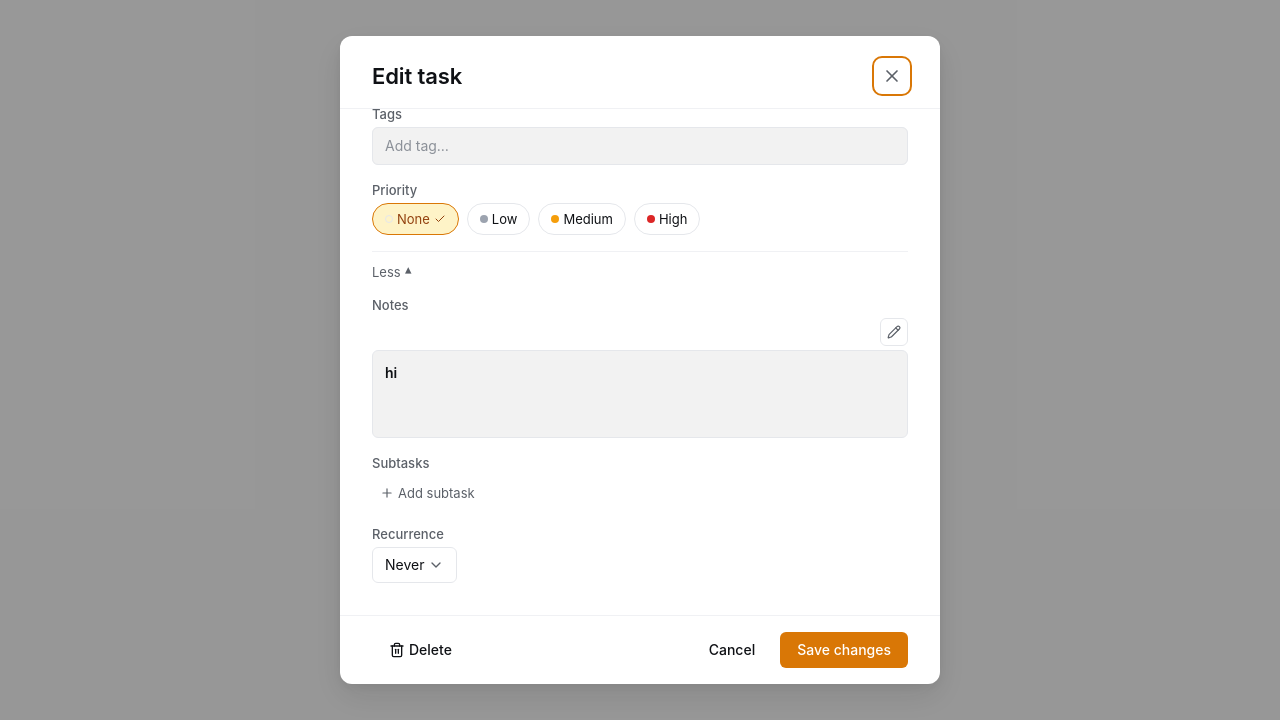
Test case: TaskModal — Notes field with markdown (task-13) › typing in notes textarea and blurring re-renders preview with new content
(page scrolled)
Expected: the dialog is shown, [340,36,940,684]
Enter edit mode
Click the element named "notes preview".
click(640, 394)  # box [372,350,908,438]
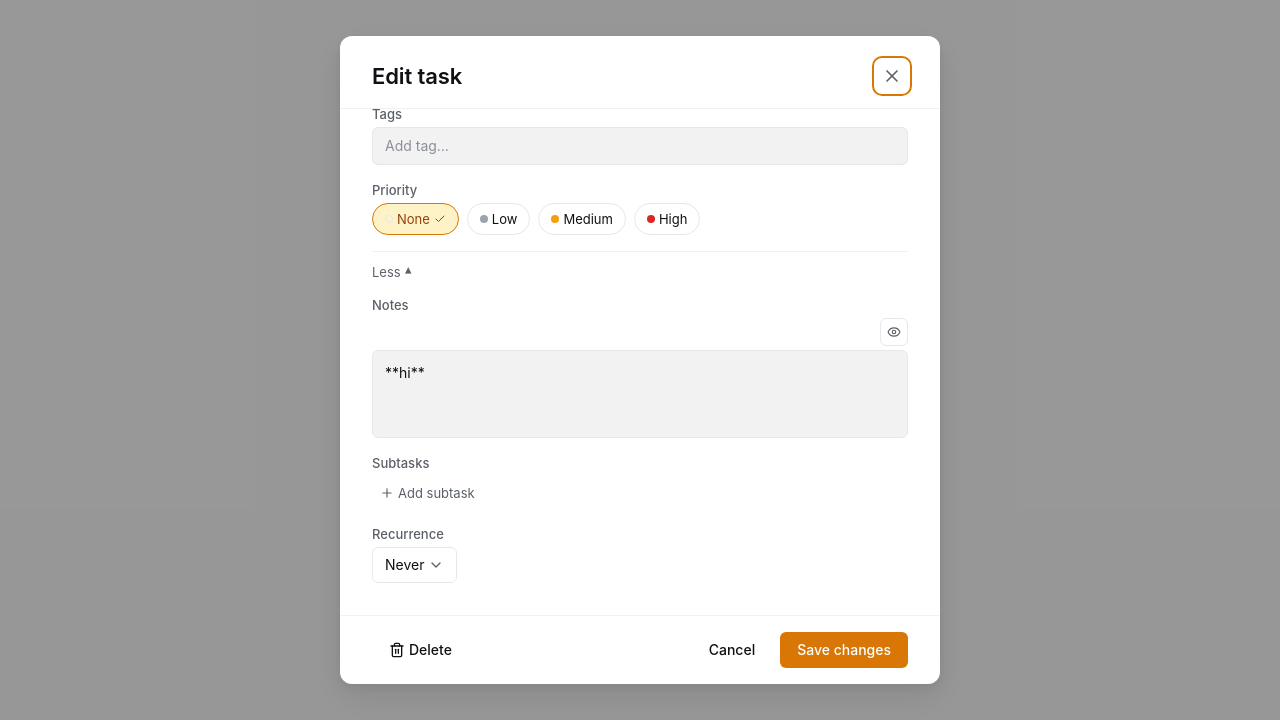
Type new content
Replace the text in the text box named "notes" with "**updated**" at [640, 394], box [372,350,908,438]
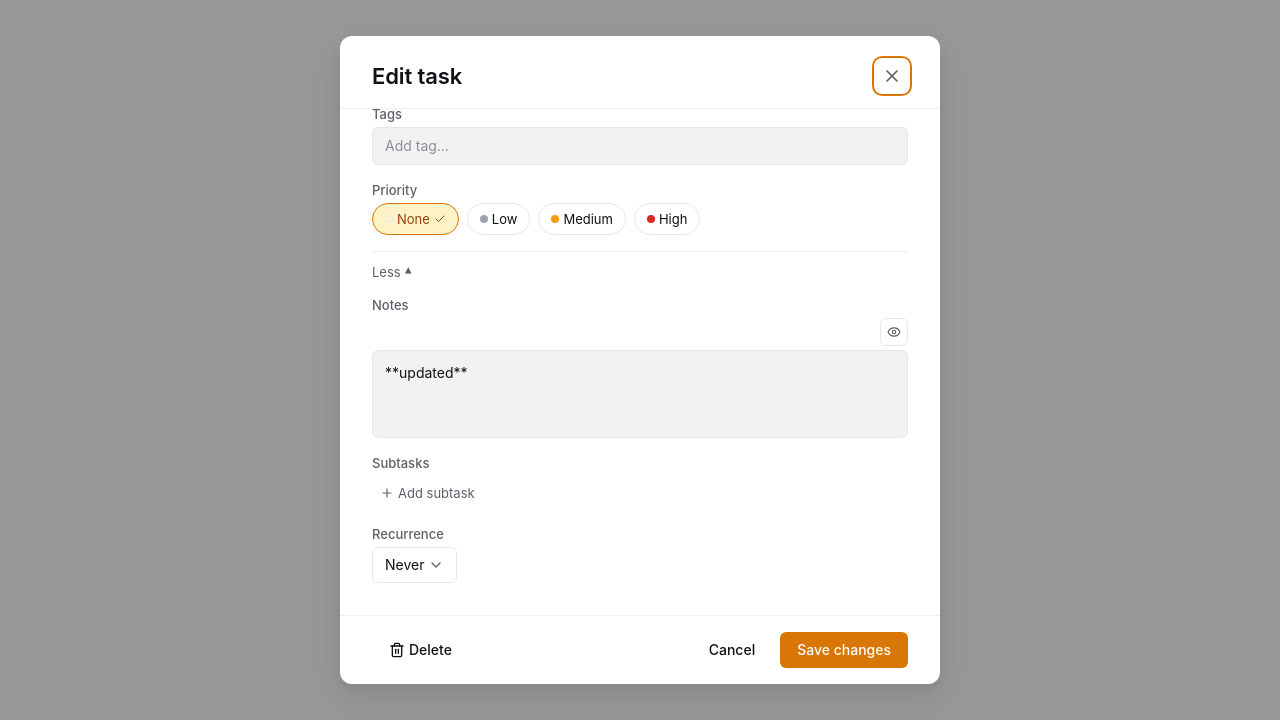
Blur the textarea → should switch back to preview
Leave the text box named "notes", box [372,350,908,438]
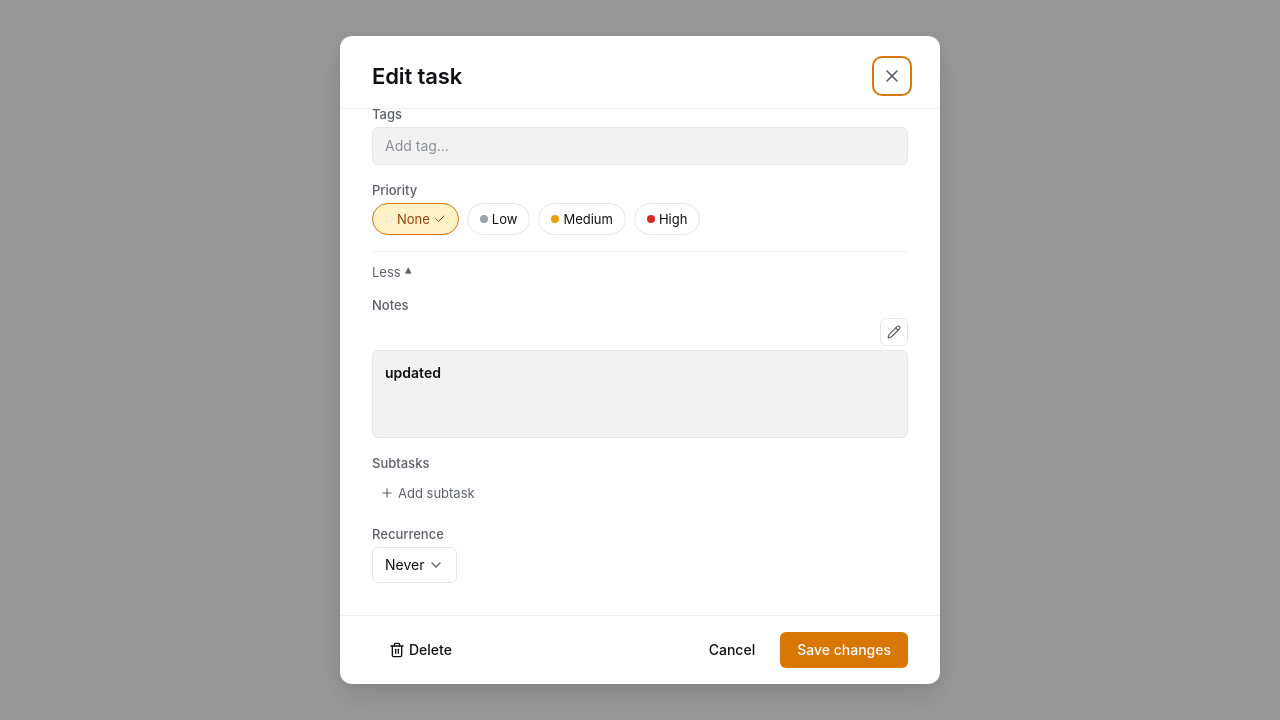
Now the text "updated" is shown, box [385,364,441,381]
